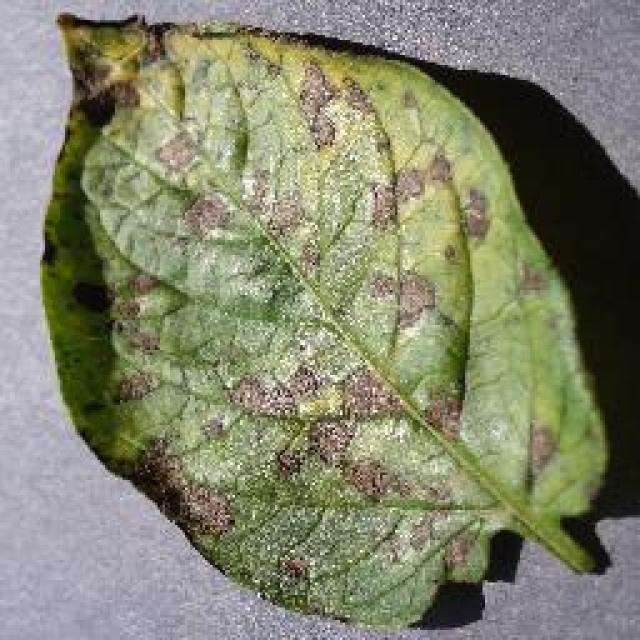early_blight: (35, 10, 615, 632)
